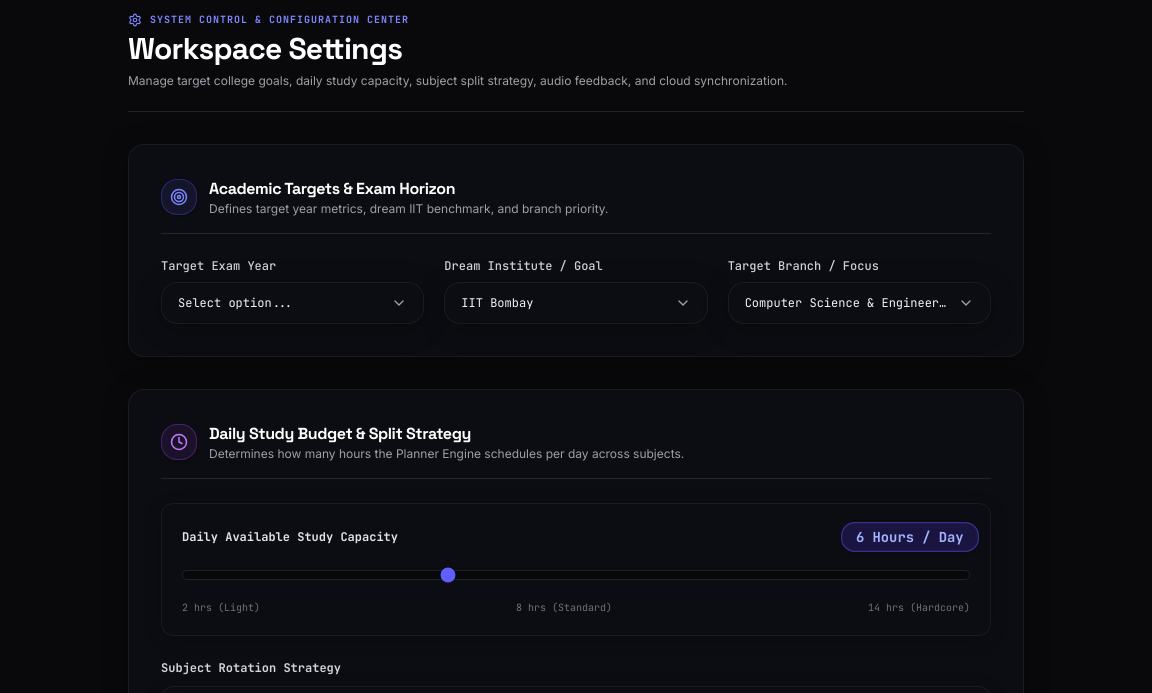
Test: SettingsPage Feature View (Magnitude 5.1) › changes daily study quota input
Set the slider to "8" at (576, 574), box [182,570,970,580]
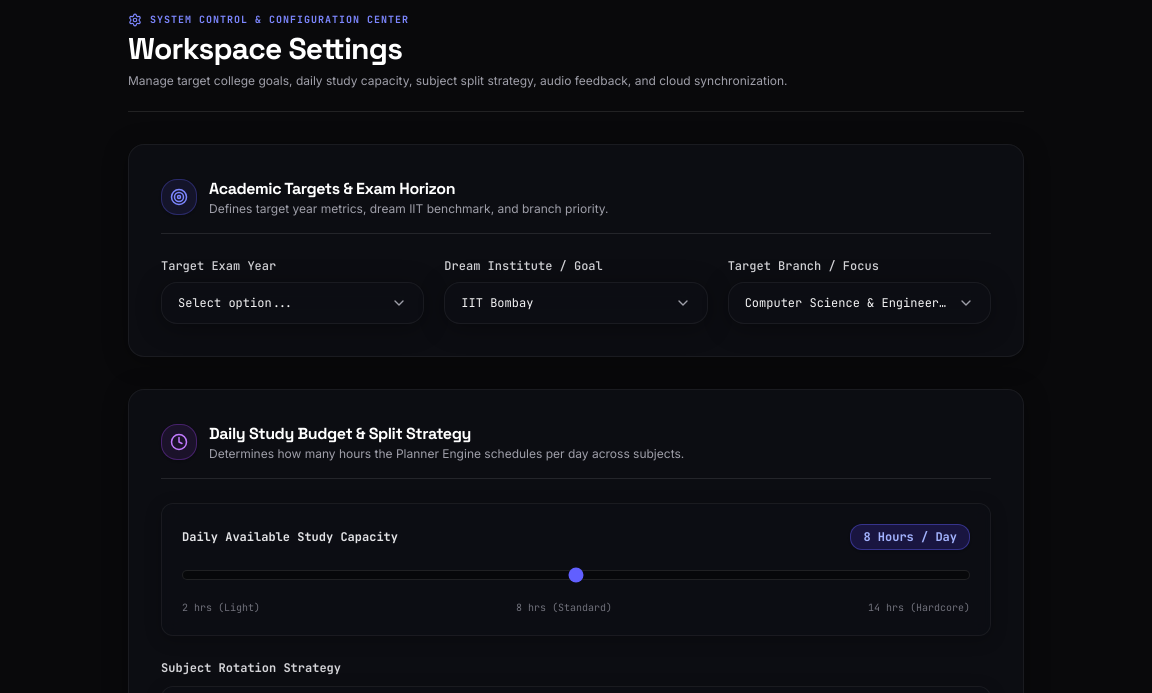
Now the text "8 Hours / Day" is shown, box [850,524,970,550]
